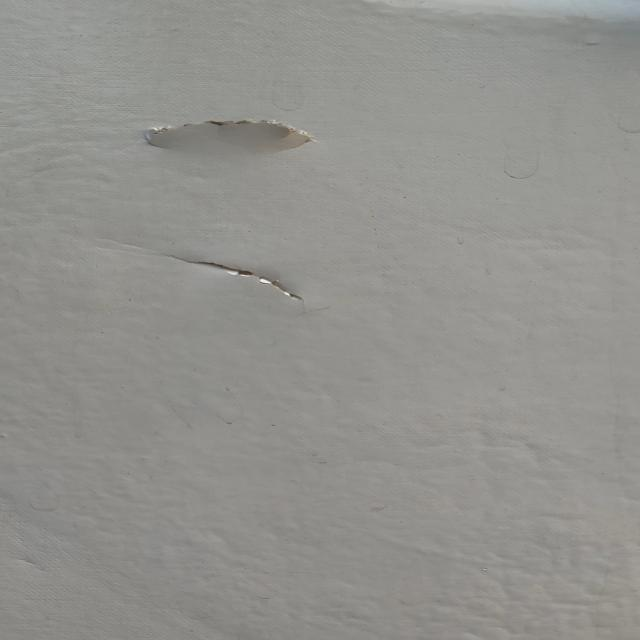Scratches: (114, 108, 364, 165), (165, 247, 320, 321)
